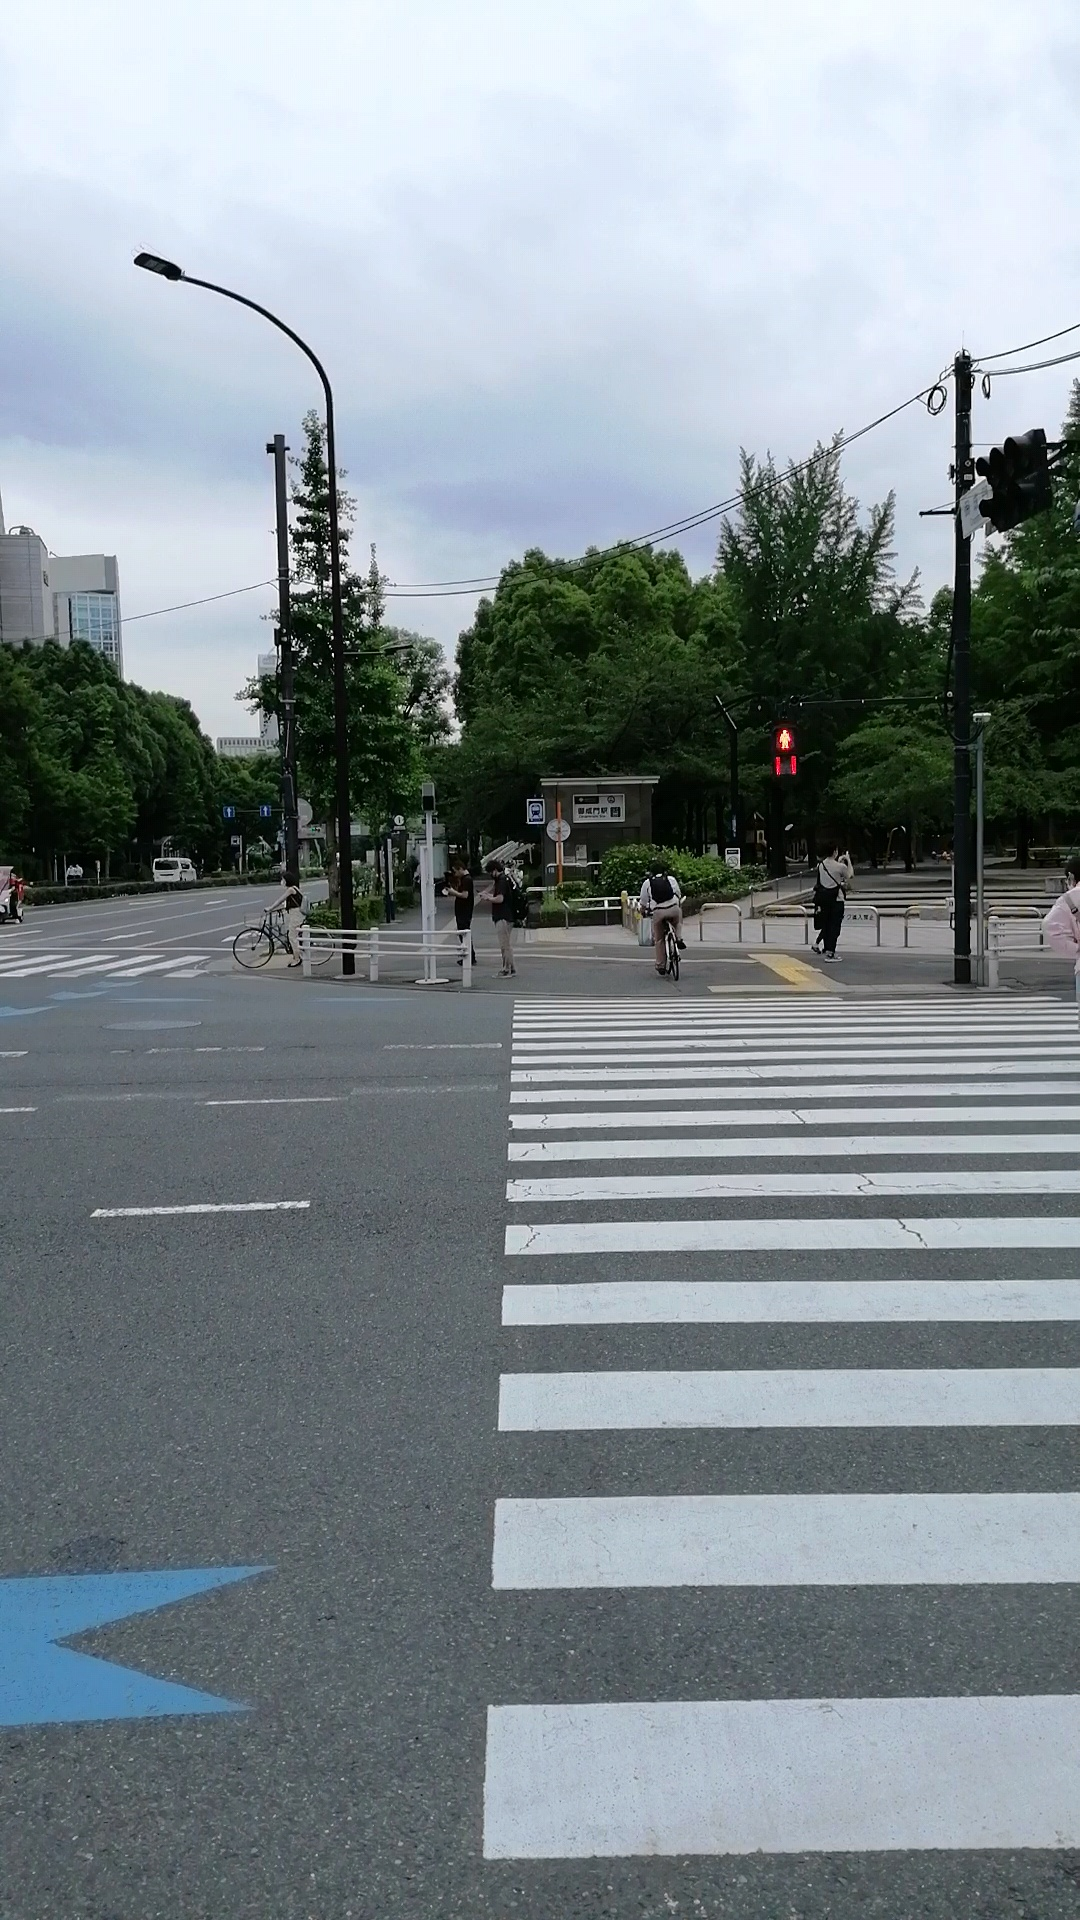red: (767, 724, 800, 781)
